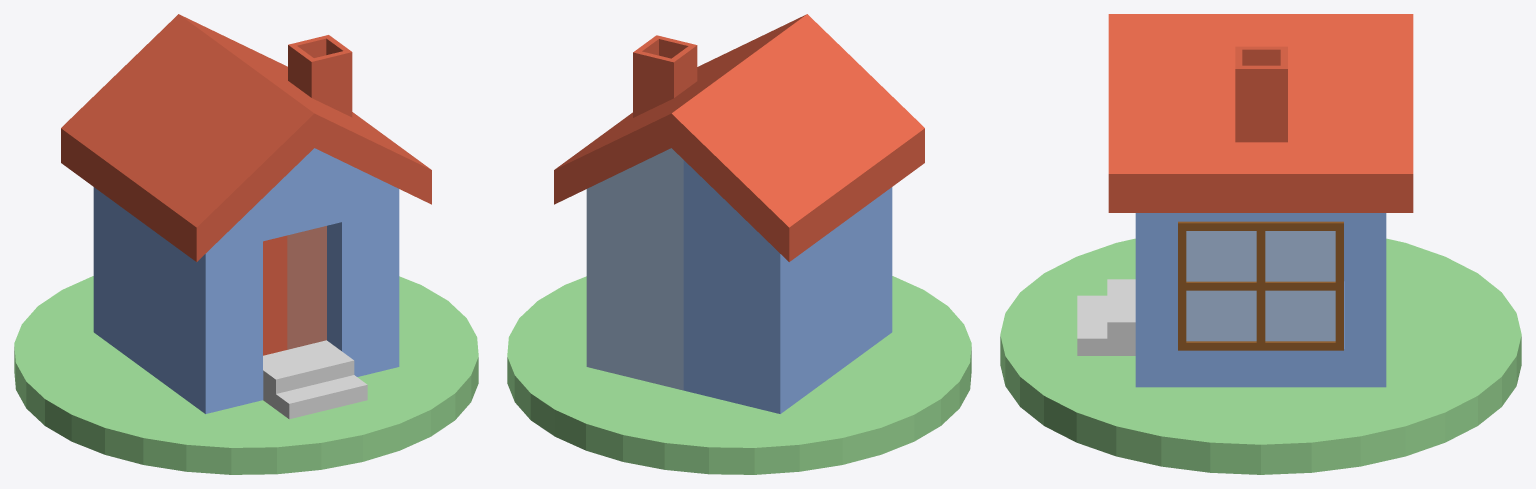
Rendered from house_d.glb.
3 views of the same model, side by side, from view 1: azimuth 30°, elevation 25°; view 2: azimuth 150°, elevation 25°; view 3: azimuth 270°, elevation 25° (orthographic). The views are drawn at different scales.
Visible parts, largest first — view 1: 立方体, 円, 立方体.001, 立方体.004, 立方体.005, 立方体.006; view 2: 立方体, 円, 立方体.001, 立方体.004; view 3: 円, 立方体.001, 立方体, 立方体.003, 立方体.004, 立方体.006, 立方体.005.
Part boxes in pixels (box(x1,y1,x2,y2)): 立方体: box(93, 148, 399, 413); 円: box(14, 276, 478, 474); 立方体.001: box(61, 14, 431, 261); 立方体.004: box(288, 35, 352, 117); 立方体.005: box(263, 340, 354, 409); 立方体.006: box(263, 375, 367, 419); 立方体: box(586, 148, 892, 413); 円: box(507, 276, 971, 474); 立方体.001: box(554, 14, 924, 261); 立方体.004: box(633, 35, 697, 117); 円: box(1000, 238, 1521, 474); 立方体.001: box(1108, 14, 1413, 212); 立方体: box(1135, 213, 1386, 387); 立方体.003: box(1178, 221, 1343, 350); 立方体.004: box(1235, 46, 1287, 142); 立方体.006: box(1077, 295, 1135, 355); 立方体.005: box(1107, 279, 1135, 355).
Bounding box in the file's own units: 4.16 × 3.09 × 4.16.
